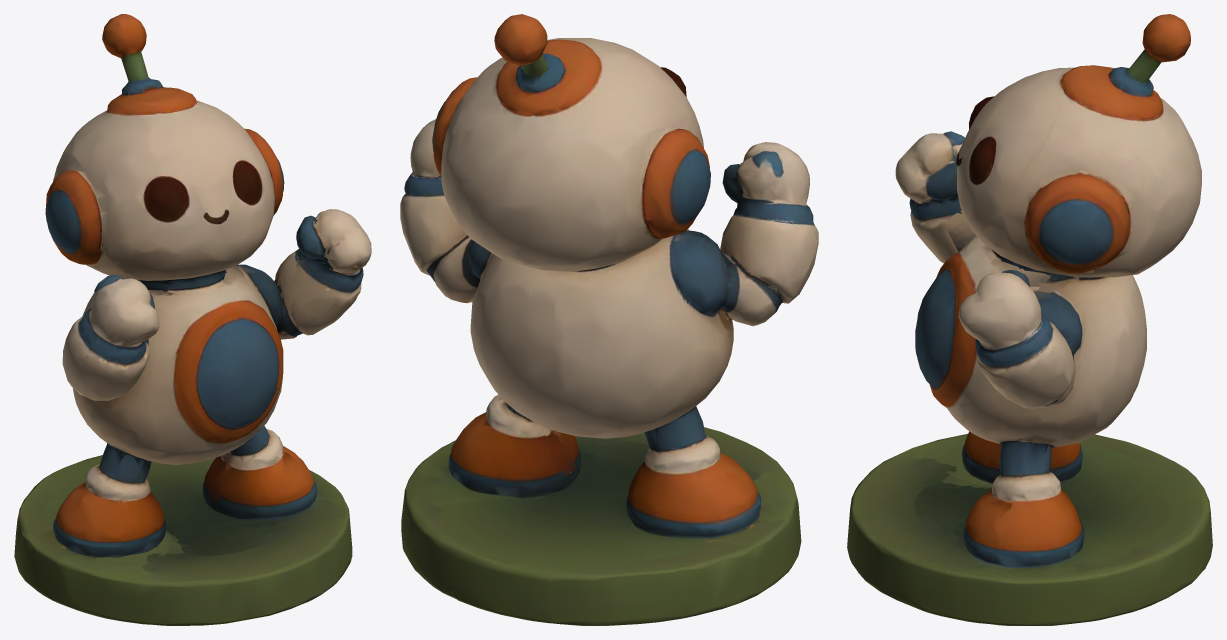
Rendered from marker-robot.glb.
The picture shows the model from 3 angles, left to right: view 1: azimuth 30°, elevation 25°; view 2: azimuth 150°, elevation 25°; view 3: azimuth 270°, elevation 25°; orthographic projection. The views are drawn at different scales.
Parts seen in each view (by area): view 1: textured_mesh.obj; view 2: textured_mesh.obj; view 3: textured_mesh.obj.
Boxes of the visible parts, box(x1,y1,x2,y2) form: textured_mesh.obj: box(14, 14, 371, 625); textured_mesh.obj: box(400, 14, 818, 625); textured_mesh.obj: box(847, 14, 1212, 625).
Bounding box in the file's own units: 0.6701 × 0.9988 × 0.6182.
Materials: 1 (1 with a texture image).
